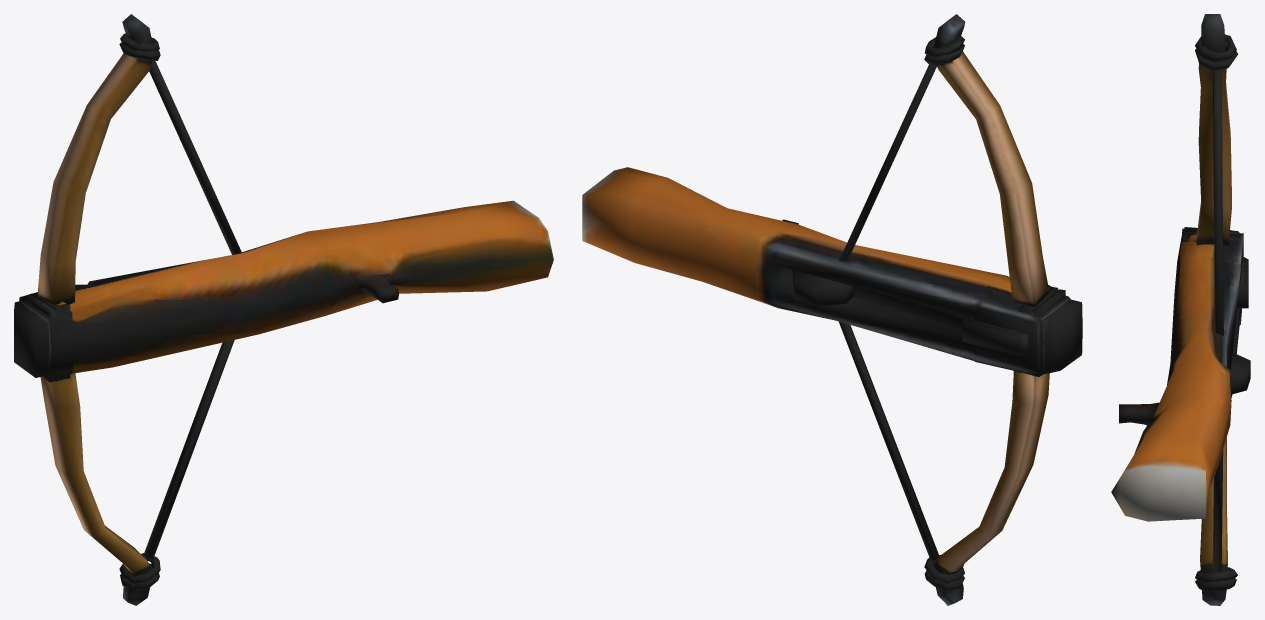
File: simple_farmhand_crossbow.glb
3 renders of one model, left to right at view 1: azimuth 30°, elevation 25°; view 2: azimuth 150°, elevation 25°; view 3: azimuth 270°, elevation 25°, orthographic.
Visible parts, largest first — view 1: tripo_node_225cc236-c04e-4a34-8d74-e181f8a38ae2; view 2: tripo_node_225cc236-c04e-4a34-8d74-e181f8a38ae2; view 3: tripo_node_225cc236-c04e-4a34-8d74-e181f8a38ae2.
Boxes of the visible parts, box(x1,y1,x2,y2) form: tripo_node_225cc236-c04e-4a34-8d74-e181f8a38ae2: box(14, 14, 553, 605); tripo_node_225cc236-c04e-4a34-8d74-e181f8a38ae2: box(582, 14, 1082, 605); tripo_node_225cc236-c04e-4a34-8d74-e181f8a38ae2: box(1111, 14, 1250, 605).
Size of the model in its own units: 1.22 by 1.4 by 0.2996.
1 material, 1 textured.
